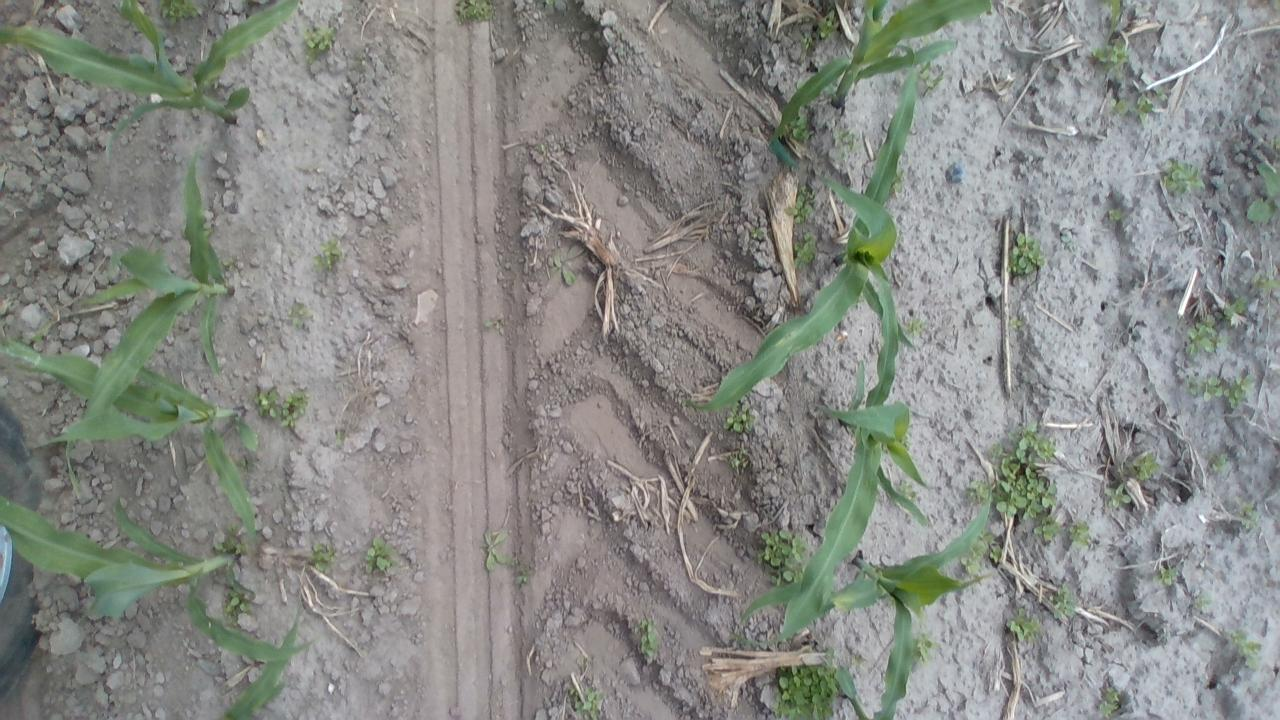Maize: (682, 42, 921, 418), (760, 259, 936, 655), (724, 468, 996, 720), (1, 484, 309, 656), (0, 337, 263, 538), (61, 140, 238, 434), (0, 0, 303, 151), (768, 0, 994, 180), (206, 590, 306, 720), (1100, 1, 1126, 43)
Weeds: (991, 422, 1060, 526), (772, 659, 842, 720), (253, 385, 309, 430), (755, 528, 807, 576), (1246, 160, 1278, 227), (1181, 372, 1246, 404), (1005, 231, 1048, 278), (1183, 314, 1227, 358), (1160, 156, 1204, 195), (1088, 38, 1132, 76), (1226, 628, 1264, 671), (568, 682, 608, 720), (213, 516, 250, 555), (482, 525, 512, 573), (1004, 607, 1044, 643), (363, 535, 399, 574), (299, 25, 335, 61), (220, 586, 253, 624), (1048, 581, 1080, 619), (634, 615, 661, 660), (154, 0, 200, 26), (724, 402, 758, 437), (309, 540, 342, 574), (314, 238, 345, 274), (914, 632, 944, 669), (789, 185, 817, 224), (832, 127, 863, 162), (1130, 449, 1160, 484), (790, 231, 818, 268), (453, 0, 497, 22), (1067, 521, 1098, 551), (1228, 373, 1256, 406), (554, 252, 579, 288), (1096, 684, 1122, 718), (920, 62, 946, 96), (1236, 497, 1260, 533), (1102, 482, 1132, 510), (1033, 516, 1062, 544), (979, 537, 1007, 565), (284, 298, 310, 328), (1220, 295, 1251, 320), (1133, 90, 1156, 122), (819, 8, 840, 43), (964, 478, 991, 503), (963, 548, 986, 577), (1207, 451, 1234, 475), (1253, 271, 1277, 296), (1188, 589, 1212, 612), (790, 115, 810, 142), (729, 444, 749, 471), (1156, 563, 1179, 586), (902, 316, 926, 338), (899, 479, 920, 503), (1109, 96, 1130, 118), (1058, 231, 1078, 254), (891, 168, 907, 195), (514, 562, 531, 585), (235, 453, 257, 470), (483, 316, 506, 332), (798, 31, 814, 52), (750, 224, 767, 243), (1106, 206, 1123, 224), (220, 256, 238, 272), (851, 652, 868, 668), (1009, 316, 1026, 332), (1267, 132, 1280, 152), (332, 427, 347, 444), (536, 141, 548, 155), (542, 0, 556, 8)
